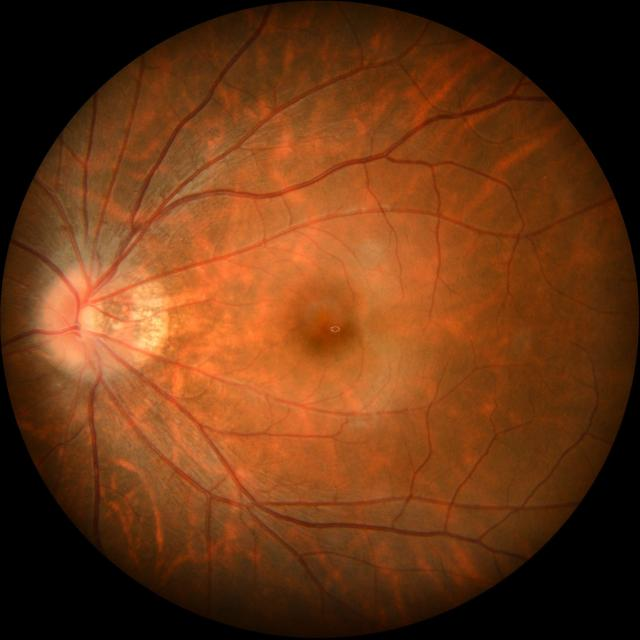OC: (74, 306, 98, 336)
OD: (44, 272, 105, 363)
